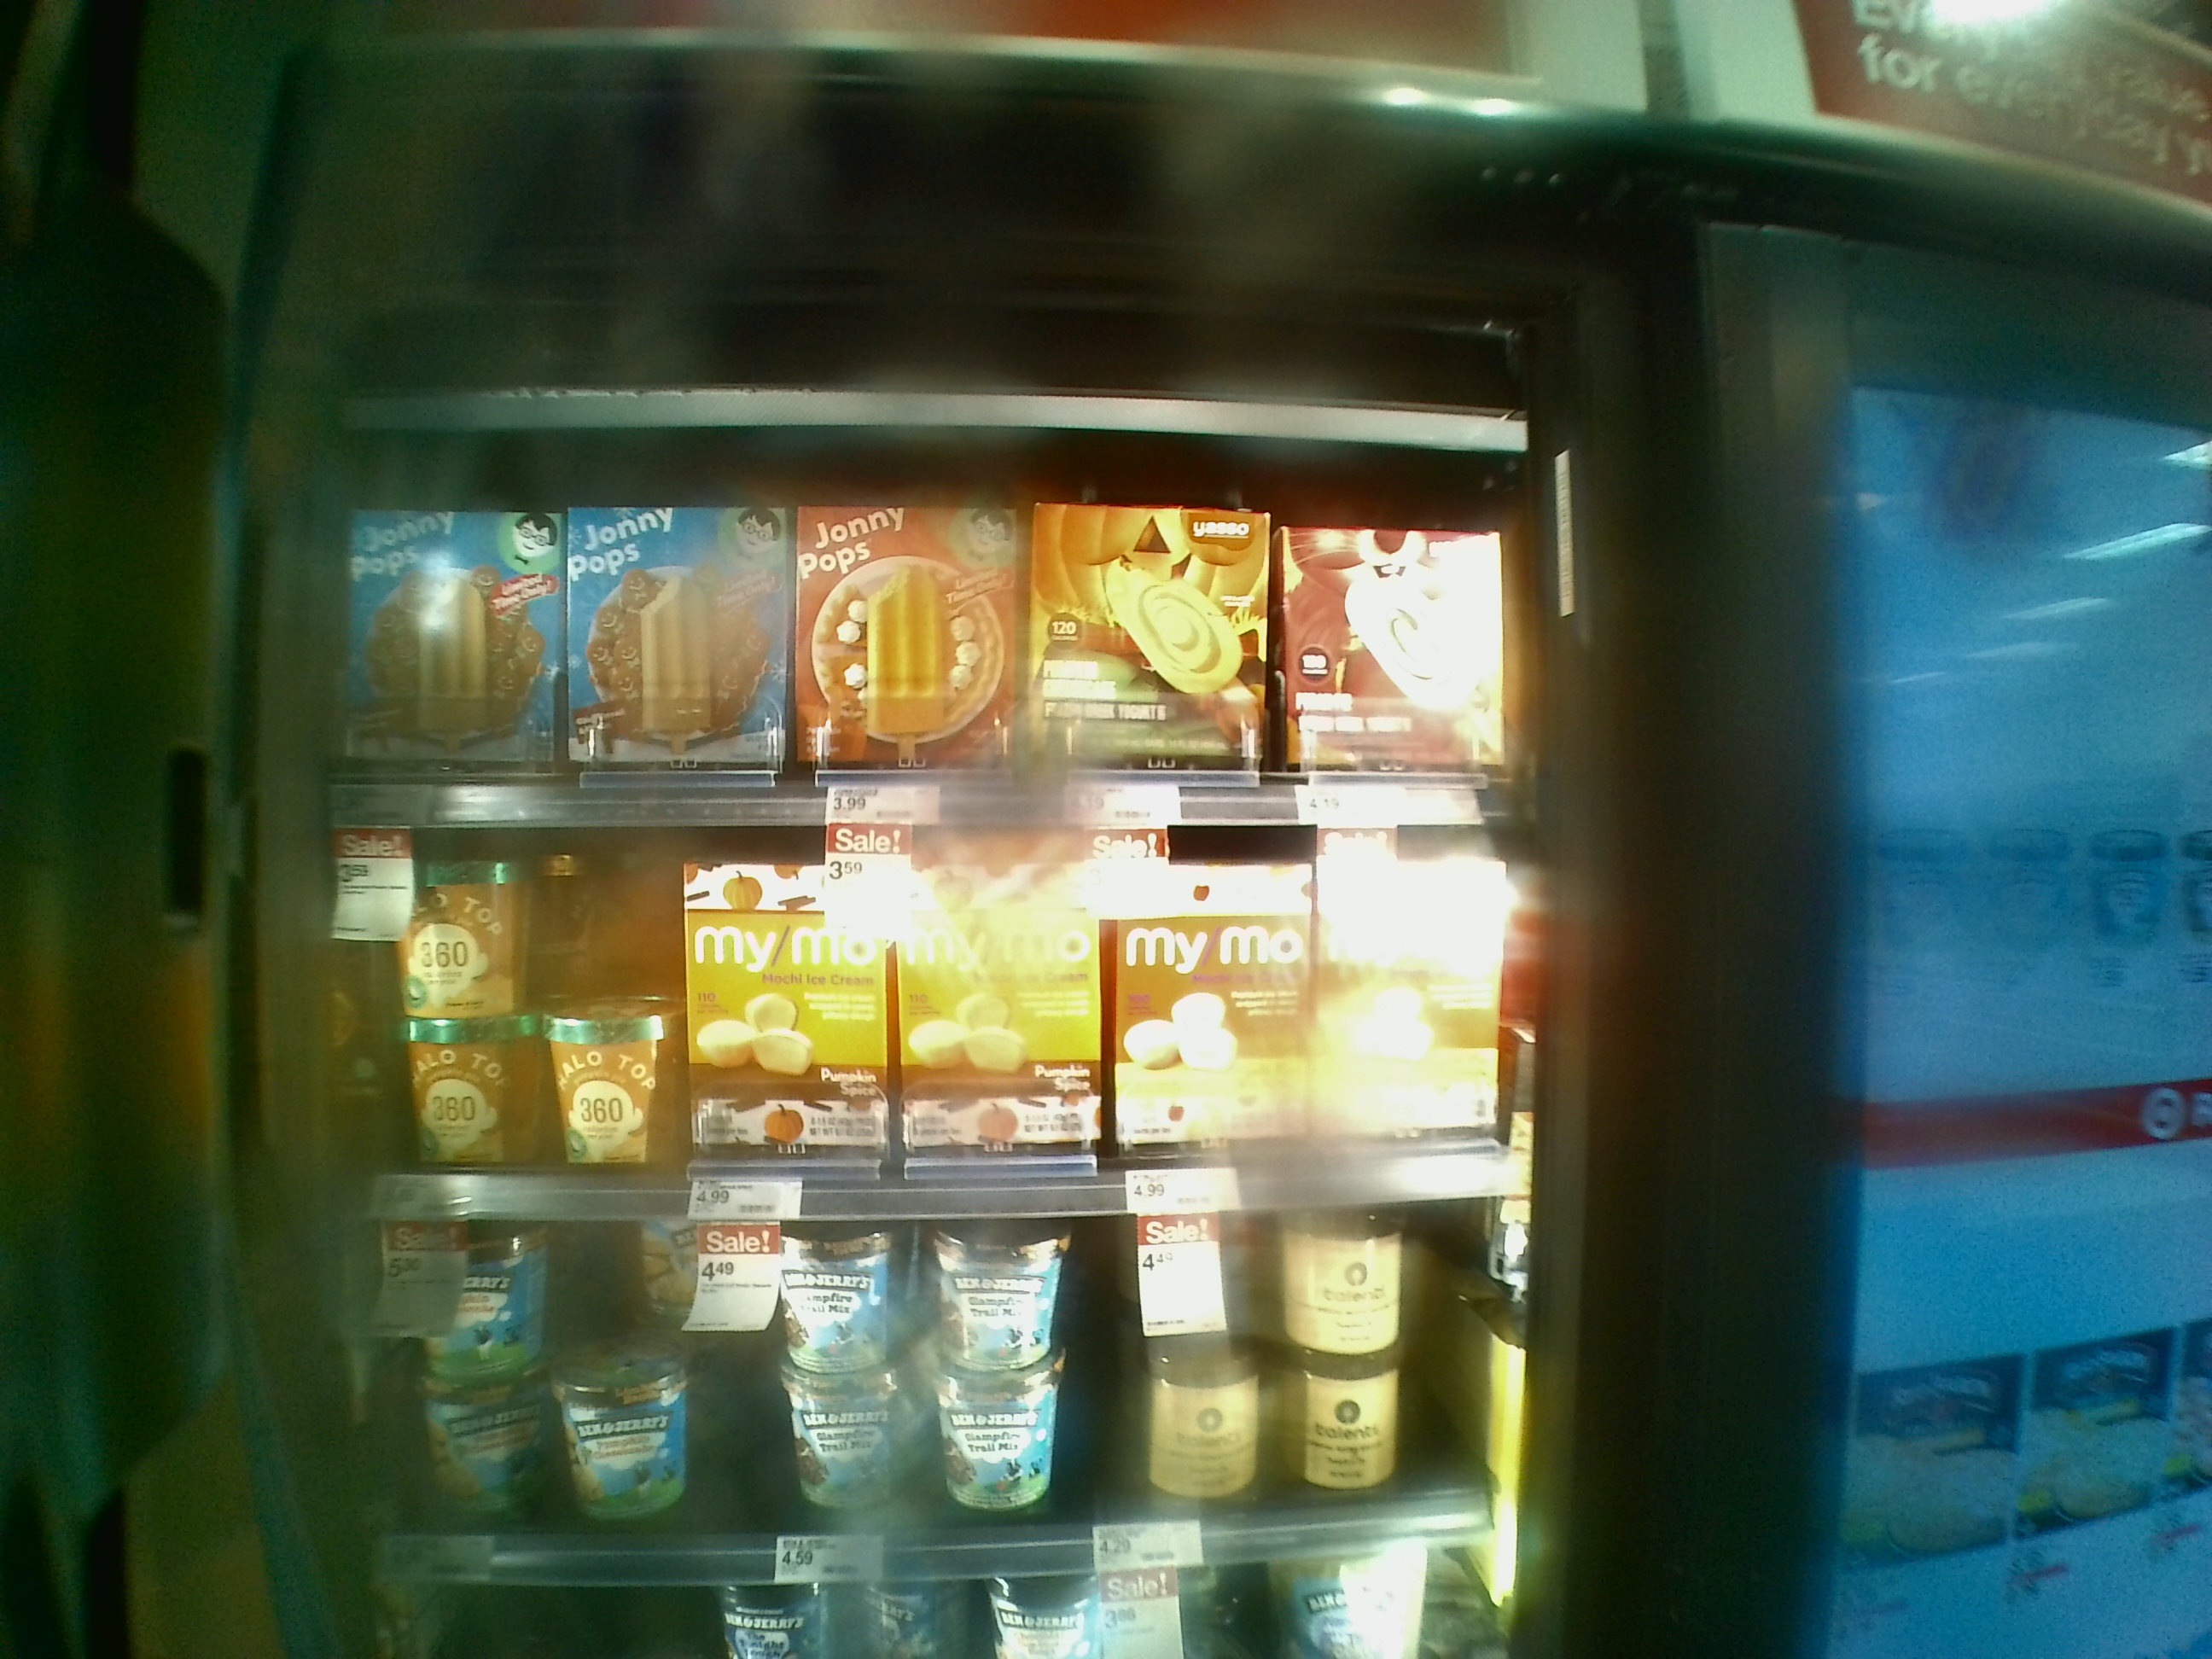shelf: (265, 826, 1575, 1215), (284, 427, 1571, 821), (244, 1202, 1571, 1532)
